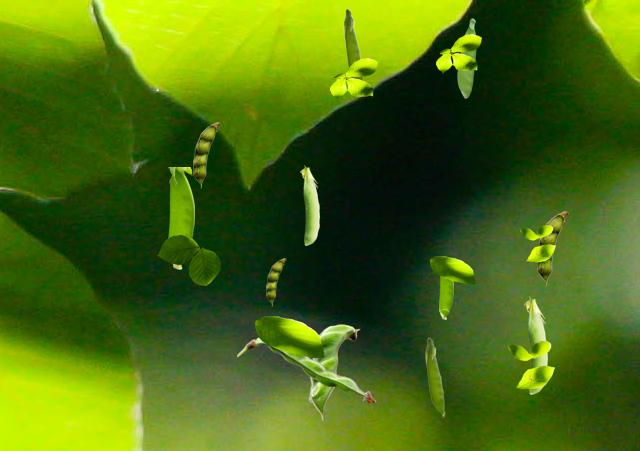pea: (237, 337, 375, 401), (308, 324, 359, 421), (168, 167, 193, 268), (537, 211, 567, 285), (524, 296, 546, 393), (193, 122, 219, 187), (425, 337, 444, 416), (457, 18, 475, 97), (300, 165, 318, 244), (343, 8, 363, 79), (266, 258, 285, 305), (439, 277, 452, 318)
